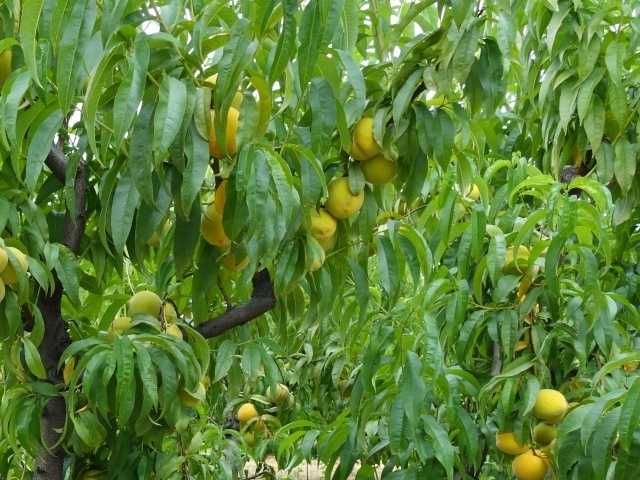peach: (200, 103, 245, 164), (338, 108, 385, 164), (322, 171, 370, 223), (356, 143, 406, 189), (194, 201, 236, 250), (299, 199, 341, 244), (293, 229, 331, 277), (531, 383, 571, 427), (511, 444, 557, 480), (123, 286, 165, 325), (216, 236, 253, 278), (489, 423, 528, 459), (1, 243, 30, 289), (153, 320, 192, 354), (527, 417, 563, 450), (175, 378, 208, 412), (149, 296, 184, 327), (102, 313, 138, 341), (262, 377, 293, 408), (232, 400, 261, 426), (335, 377, 359, 401), (241, 428, 265, 451)
